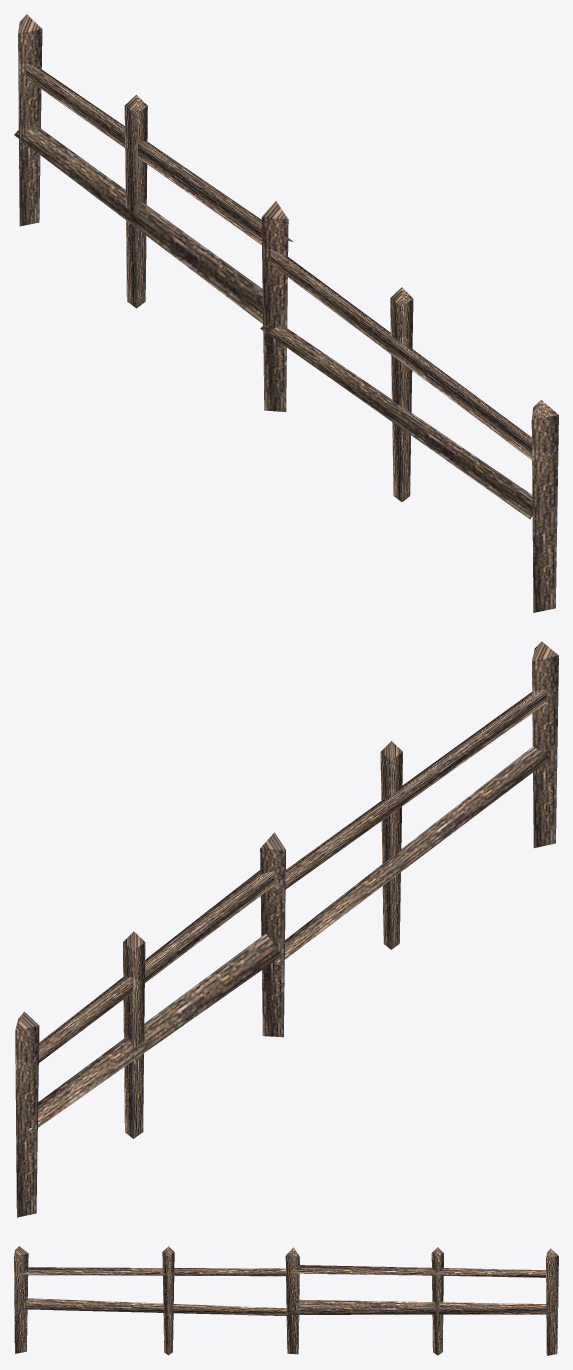
The model's file is fence_long_0.glb.
3 views of the same model, one above another, from view 1: azimuth 30°, elevation 25°; view 2: azimuth 150°, elevation 25°; view 3: azimuth 270°, elevation 25° (orthographic). The views are drawn at different scales.
Parts seen in each view (by area): view 1: m_gaia_wrld_fence_wood_long_a_mesh; view 2: m_gaia_wrld_fence_wood_long_a_mesh; view 3: m_gaia_wrld_fence_wood_long_a_mesh.
Boxes of the visible parts, x1,y1,x2,y2 form: m_gaia_wrld_fence_wood_long_a_mesh: (14,14,558,612); m_gaia_wrld_fence_wood_long_a_mesh: (15,641,558,1217); m_gaia_wrld_fence_wood_long_a_mesh: (14,1246,558,1355).
Size of the model in its own units: 0.4662 by 2.68 by 12.35.
1 material, 1 textured.
